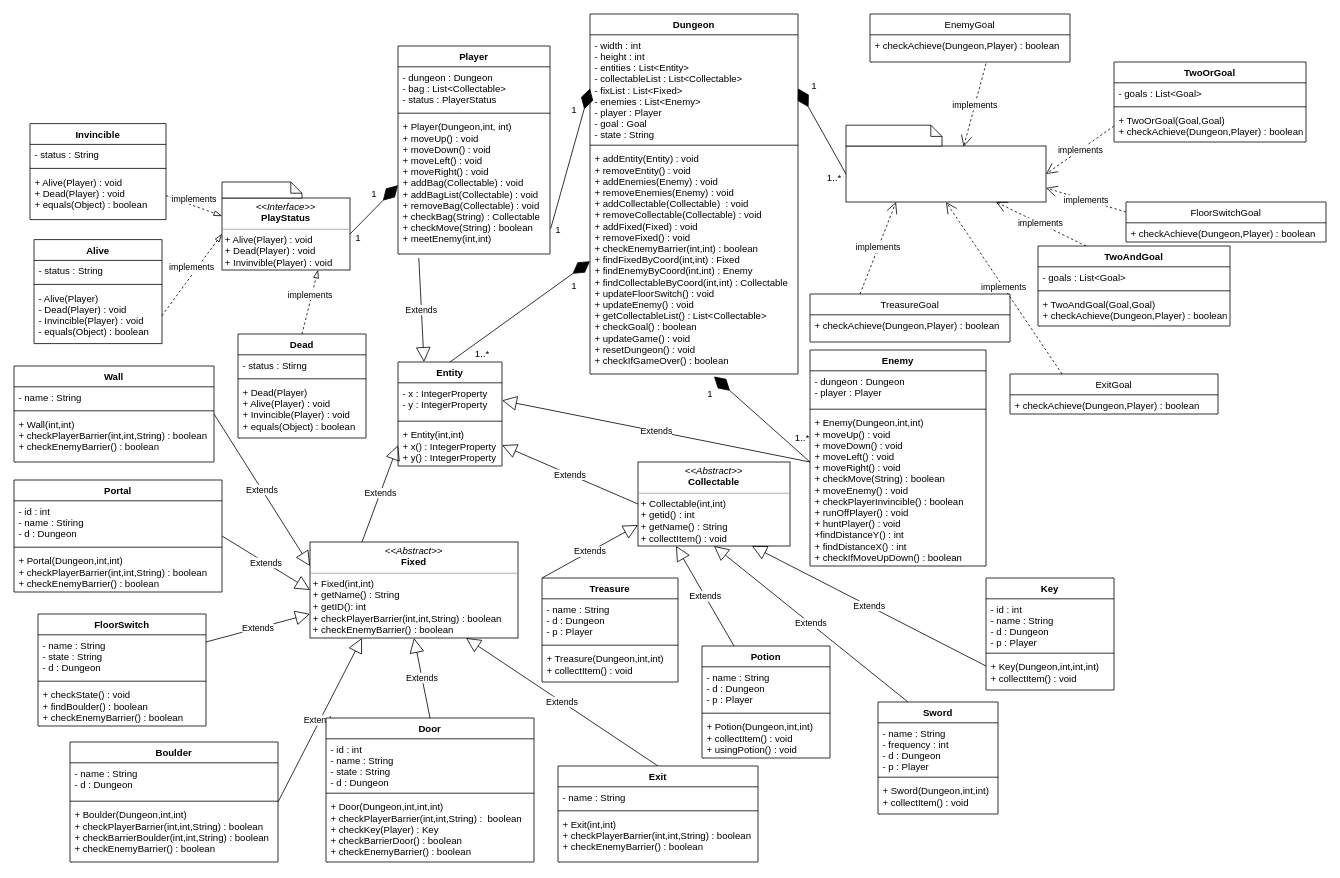
Some shapes in this 1340 by 878 pixel diagram are drawn without their labels. The centre of each missing label's shape, as x and y in pixels:
"<<Interface>> Goal + checkAchieve(Dungeon,Player) : boolean" belongs at (945,173).
"Composite Pattern" belongs at (893,135).
"State Pattern" belongs at (261,189).
